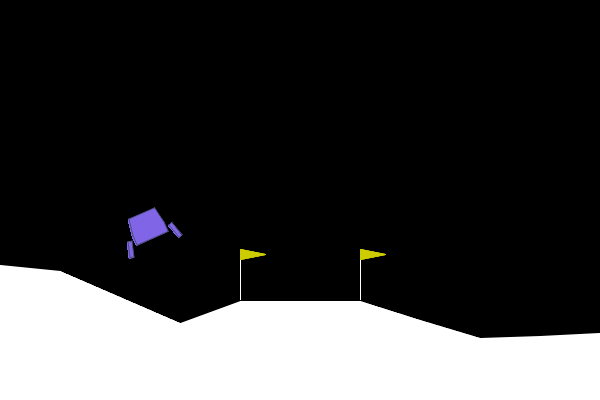lander: (113, 200, 184, 261)
